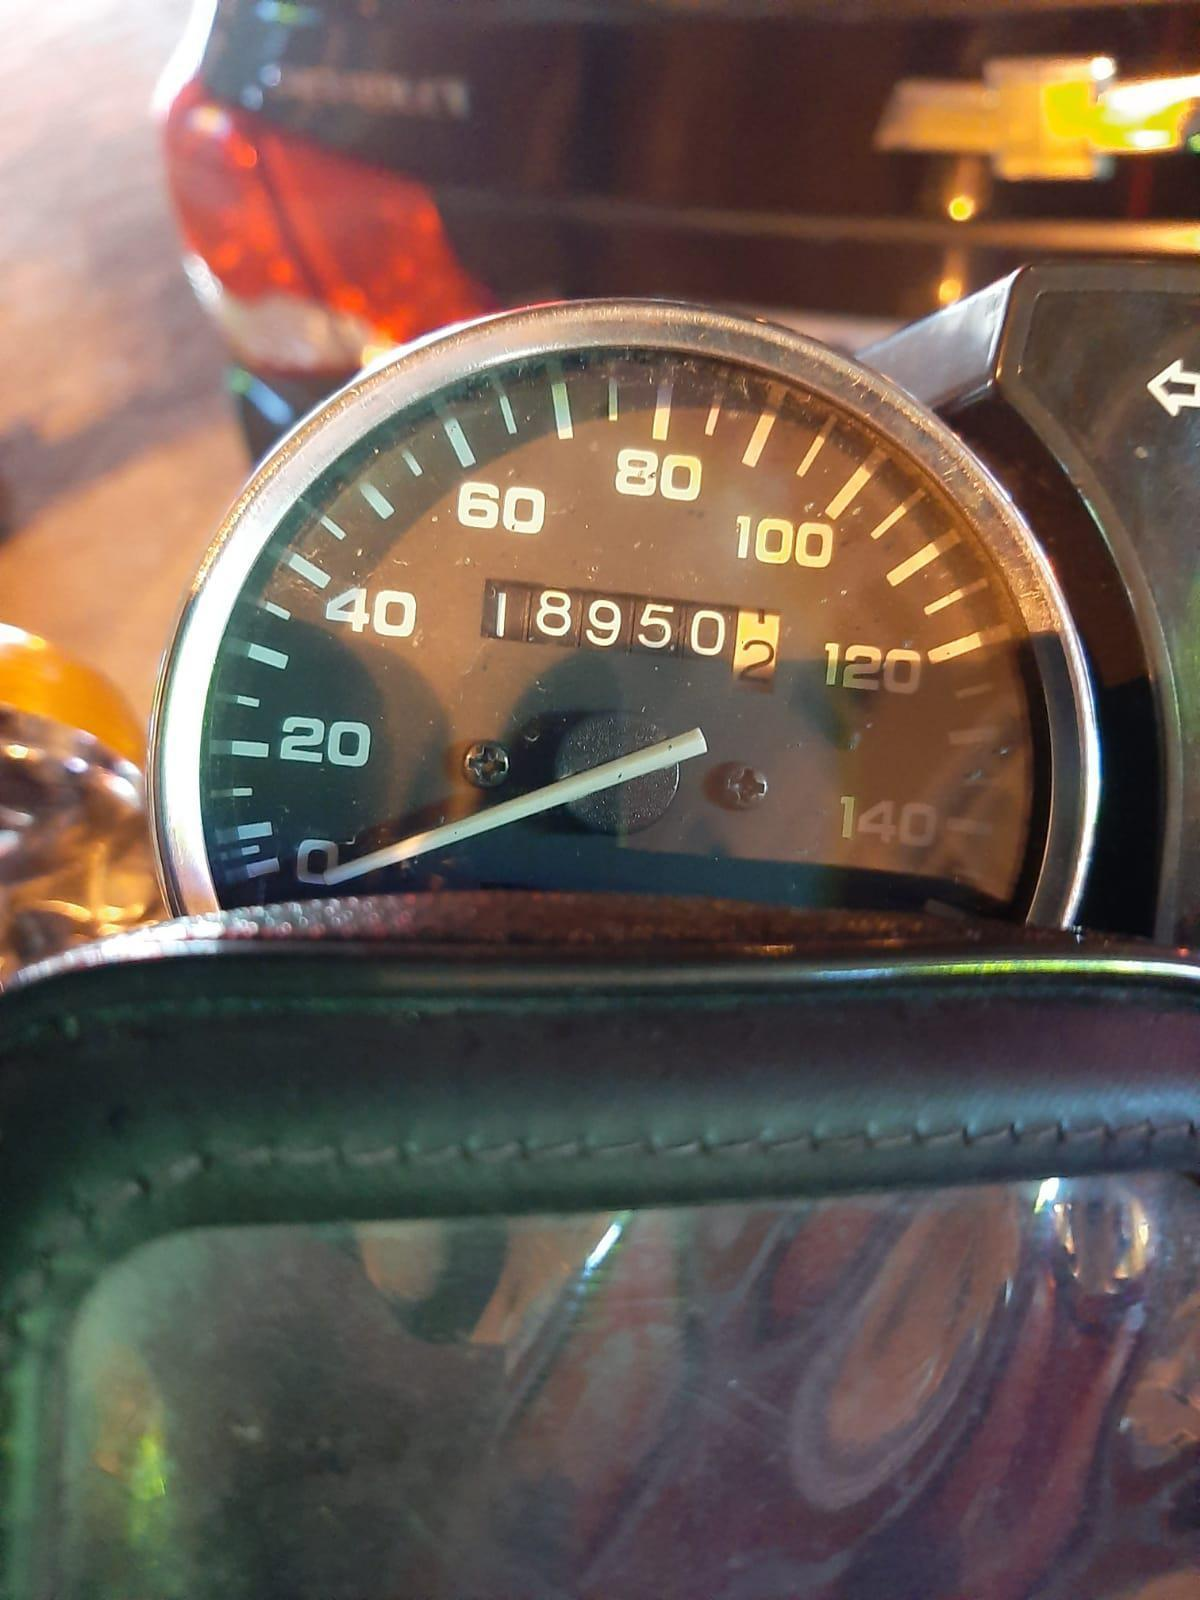0: (688, 607, 729, 656)
1: (493, 590, 513, 641)
2: (734, 632, 779, 685)
5: (637, 601, 676, 651)
8: (536, 588, 574, 640)
9: (586, 597, 623, 646)
odometer: (474, 573, 792, 690)
